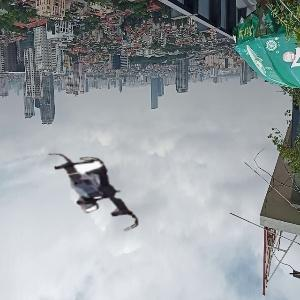drone: (51, 147, 143, 239)
